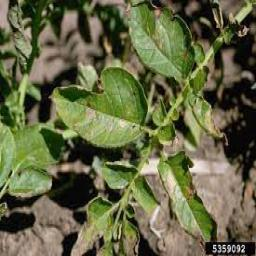Early_blight: (87, 107, 97, 120), (153, 9, 162, 16)
Leaf: (48, 66, 149, 147), (127, 0, 193, 82)
